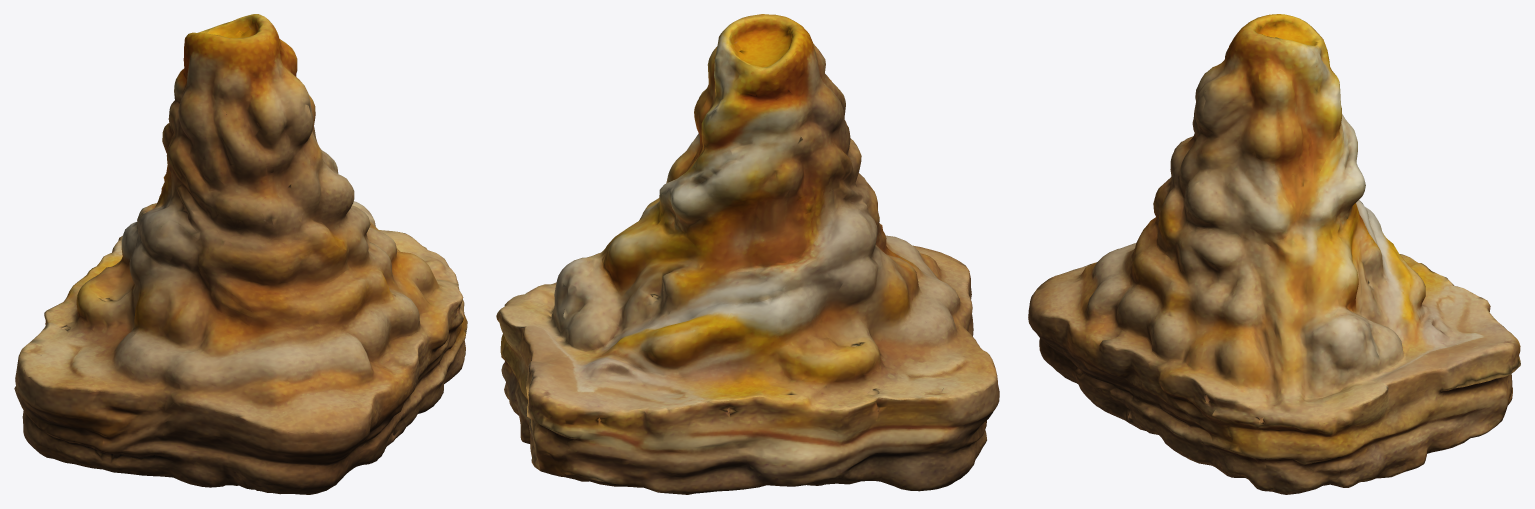
3 renders of one model, left to right at view 1: azimuth 30°, elevation 25°; view 2: azimuth 150°, elevation 25°; view 3: azimuth 270°, elevation 25°, orthographic. The views are drawn at different scales.
Parts seen in each view (by area): view 1: world; view 2: world; view 3: world.
Part boxes in pixels (x1,y1,x2,y2): world: (14,14,467,494); world: (496,14,999,494); world: (1028,14,1520,494).
Size of the model in its own units: 1.01 by 0.85 by 1.02.
Materials: 1 (1 with a texture image).
